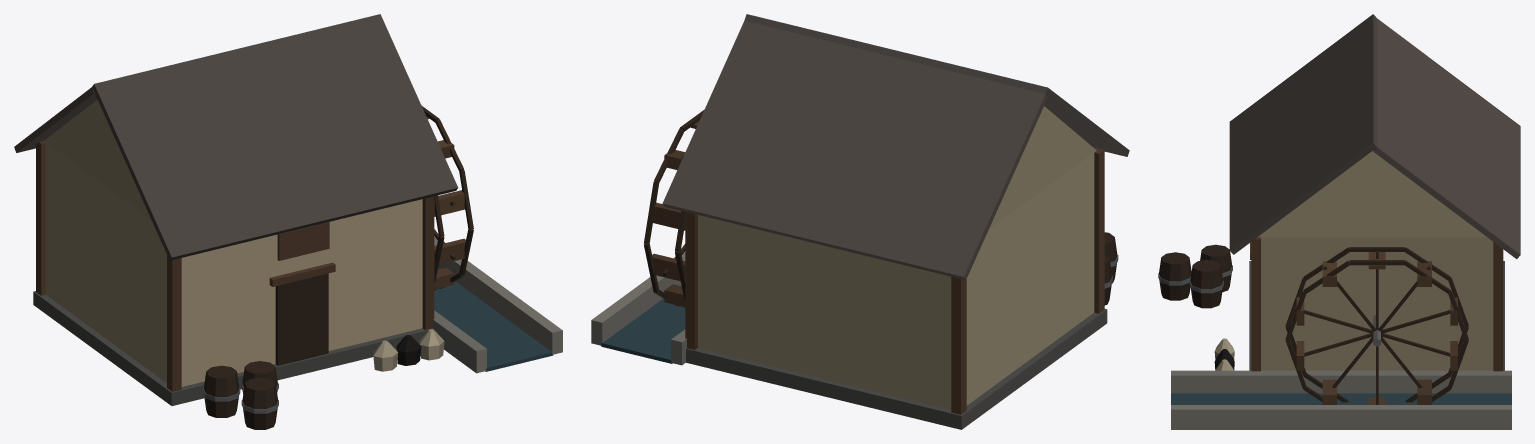
File: walk_hallowed_mill.glb
3 views of the same model, side by side, from view 1: azimuth 30°, elevation 25°; view 2: azimuth 150°, elevation 25°; view 3: azimuth 270°, elevation 25° (orthographic). The views are drawn at different scales.
Visible parts, largest first — view 1: walk_hallowed_mill, walk_hallowed_mill_roof; view 2: walk_hallowed_mill, walk_hallowed_mill_roof; view 3: walk_hallowed_mill, walk_hallowed_mill_roof.
Part boxes in pixels (x1,y1,x2,y2): walk_hallowed_mill: (33,100,562,429); walk_hallowed_mill_roof: (14,14,458,260); walk_hallowed_mill: (591,106,1118,429); walk_hallowed_mill_roof: (662,14,1129,279); walk_hallowed_mill: (1158,150,1511,429); walk_hallowed_mill_roof: (1229,14,1520,259).
Size of what is drawn, in the model's own units: 8.52 by 6.36 by 8.08.
2 materials, 2 textured.
